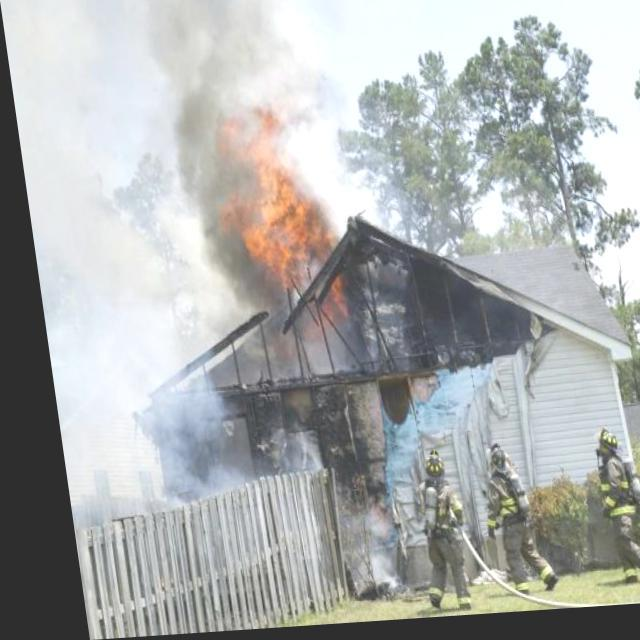Fire: (210, 111, 359, 344)
